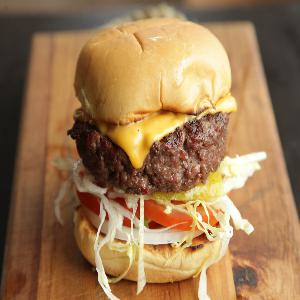cheeseburger: (27, 9, 284, 286)
